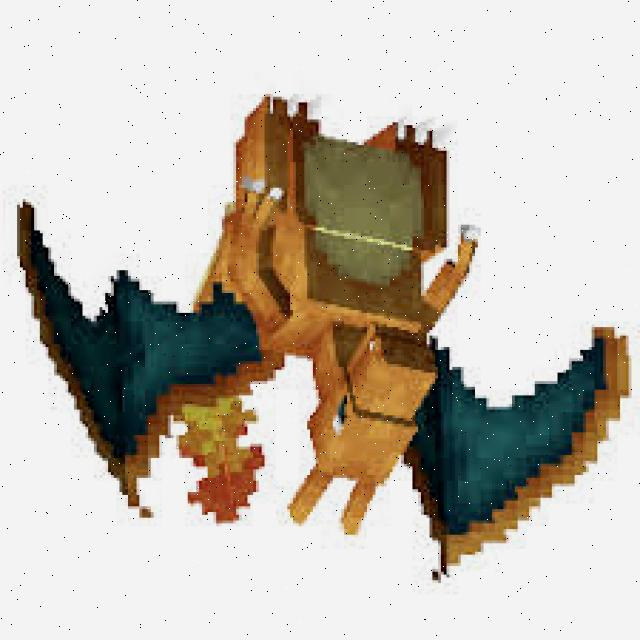charizard: (12, 88, 626, 582)
